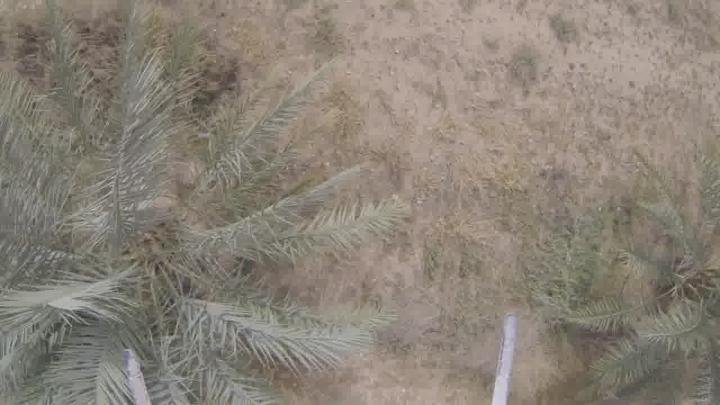Date-Palm-Crown: (0, 116, 284, 404), (638, 196, 720, 366)
